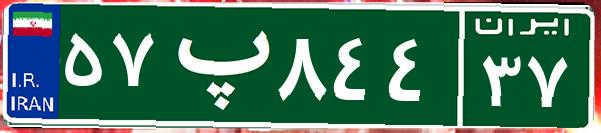3: (475, 38, 525, 113)
4: (385, 28, 445, 110), (330, 28, 385, 110)
5: (57, 26, 110, 107)
7: (110, 28, 158, 105), (525, 38, 570, 115)
8: (273, 28, 330, 110)
پ: (158, 15, 273, 115)
